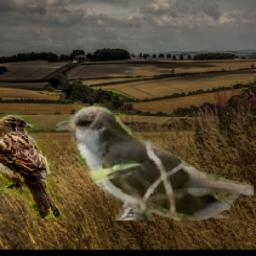Cuckoo: (55, 103, 252, 220)
Sparrow: (0, 114, 61, 218)
